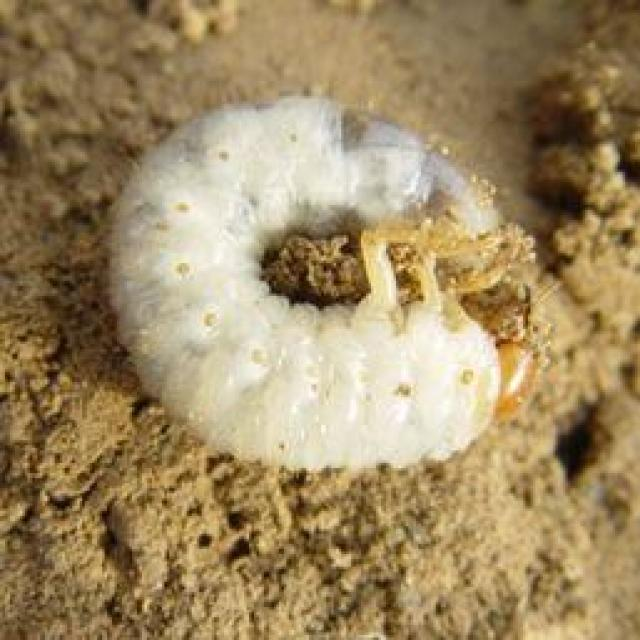Grub-Adult-: (102, 80, 567, 502)
